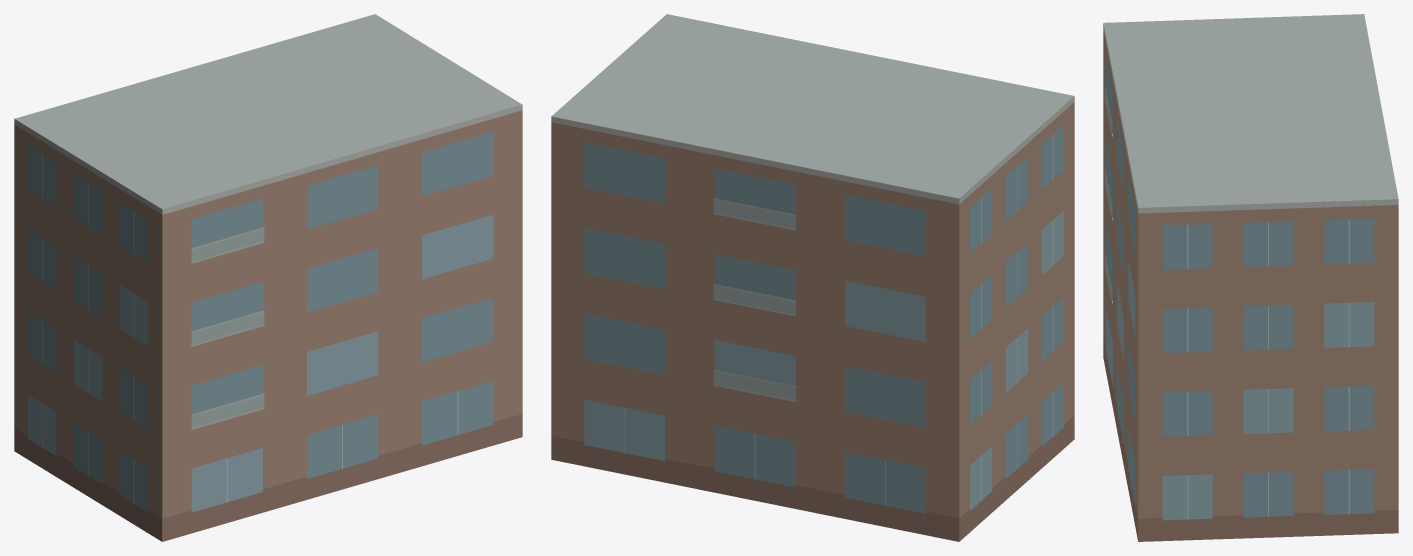
The model's file is survey-upis-32757696.glb.
3 renders of one model, left to right at view 1: azimuth 30°, elevation 25°; view 2: azimuth 150°, elevation 25°; view 3: azimuth 270°, elevation 25°, orthographic. The views are drawn at different scales.
Parts seen in each view (by area): view 1: survey-upis-32757696.tmp; view 2: survey-upis-32757696.tmp; view 3: survey-upis-32757696.tmp.
Part boxes in pixels (x1,y1,x2,y2): survey-upis-32757696.tmp: [14, 14, 522, 541]; survey-upis-32757696.tmp: [551, 14, 1074, 541]; survey-upis-32757696.tmp: [1103, 14, 1398, 541].
Size of the model in its own units: 17.94 by 14.4 by 11.55.
